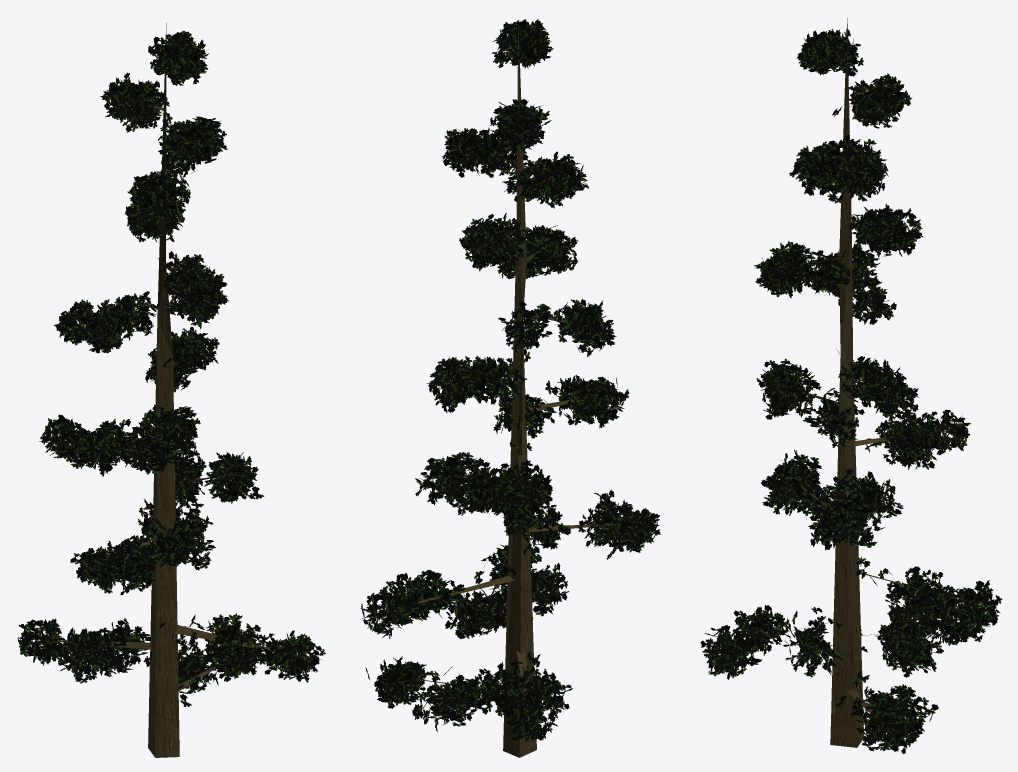
File: spruce_conifer_v02_LOD1.fbx
3 renders of one model, left to right at view 1: azimuth 30°, elevation 25°; view 2: azimuth 150°, elevation 25°; view 3: azimuth 270°, elevation 25°, orthographic.
Parts seen in each view (by area): view 1: spruce_conifer_v02_LOD1; view 2: spruce_conifer_v02_LOD1; view 3: spruce_conifer_v02_LOD1.
Part boxes in pixels (left/top/right/bottom): spruce_conifer_v02_LOD1: left=17, top=23, right=325, bottom=757; spruce_conifer_v02_LOD1: left=360, top=19, right=660, bottom=757; spruce_conifer_v02_LOD1: left=700, top=18, right=1002, bottom=753.
Size of the model in its own units: 981 by 1080 by 2794.
Materials: 2 (2 with a texture image).
